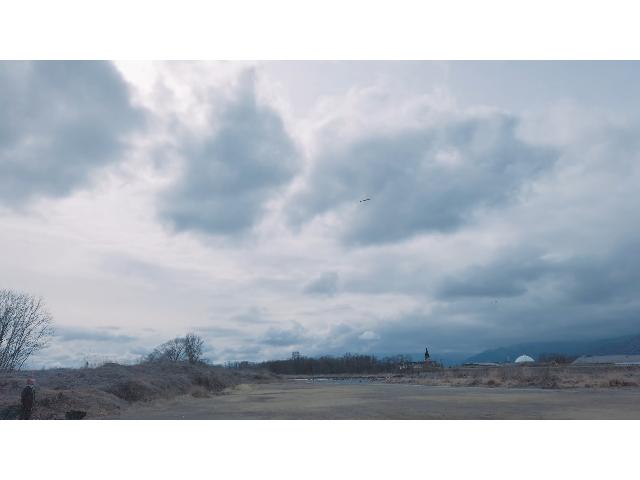Anti-Drone: (356, 196, 376, 204)
